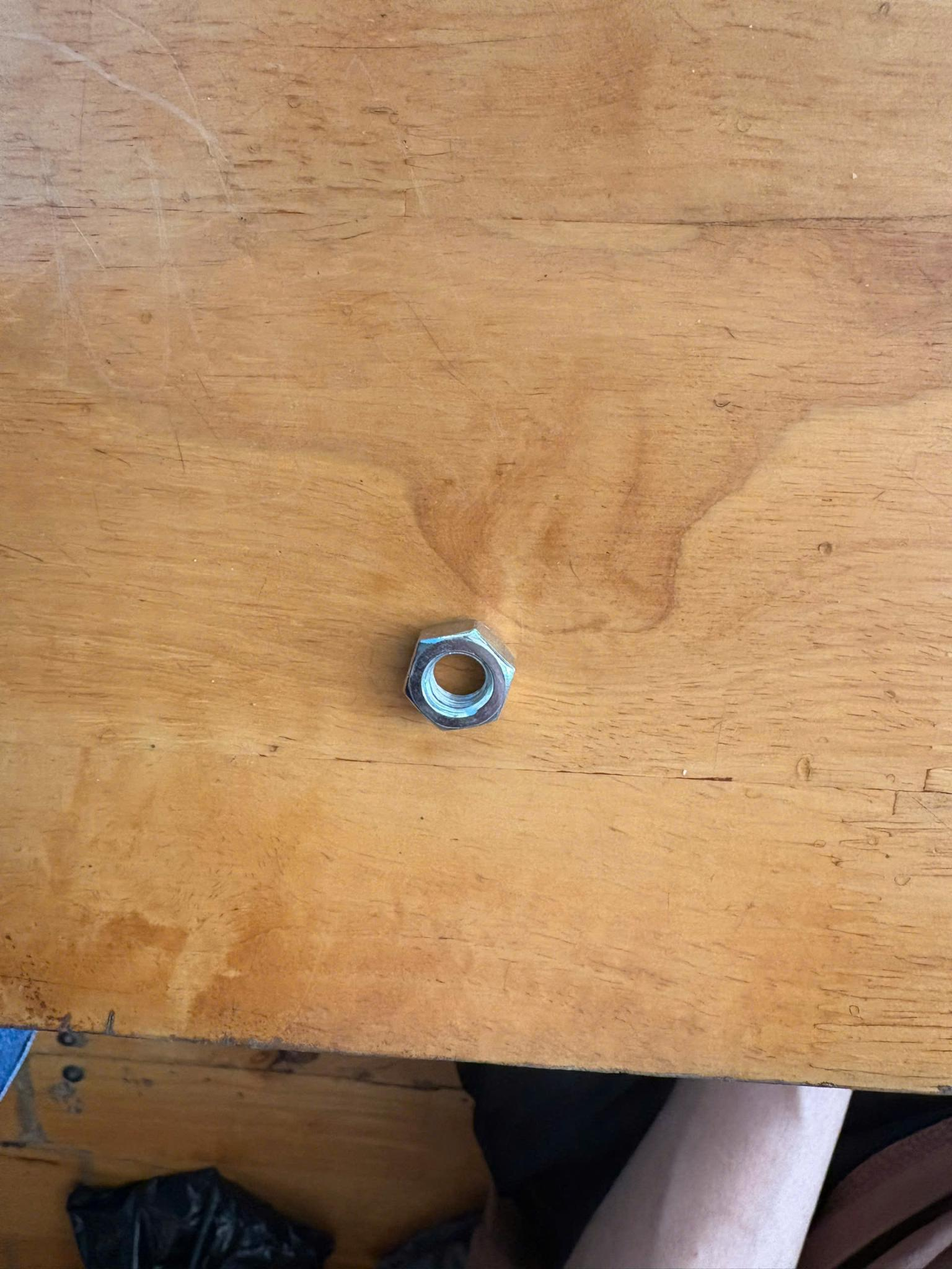nut: (389, 620, 528, 748)
